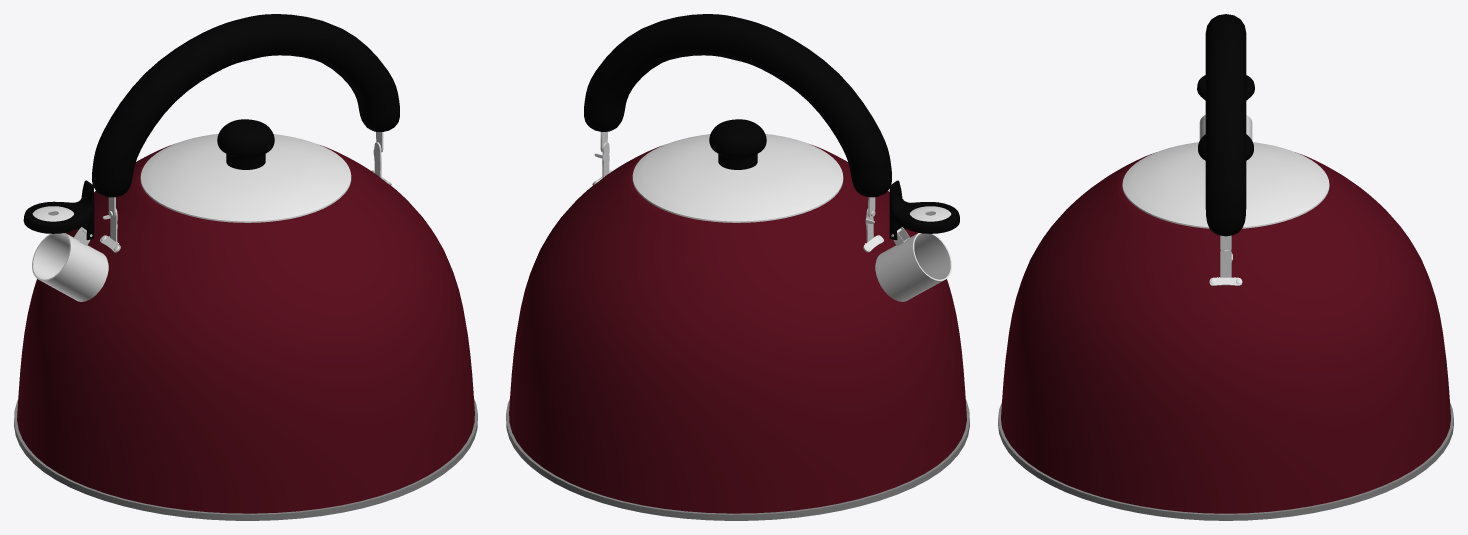
Rendered from teapot.glb.
3 renders of one model, left to right at view 1: azimuth 30°, elevation 25°; view 2: azimuth 150°, elevation 25°; view 3: azimuth 270°, elevation 25°, orthographic. The views are drawn at different scales.
Parts seen in each view (by area): view 1: Teapot-model_2; view 2: Teapot-model_2; view 3: Teapot-model_2.
Part boxes in pixels (x1=…): Teapot-model_2: x1=14, y1=14, x2=477, y2=520; Teapot-model_2: x1=506, y1=14, x2=969, y2=520; Teapot-model_2: x1=998, y1=14, x2=1453, y2=520.
Size of the model in its own units: 0.2514 by 0.2301 by 0.2418.
